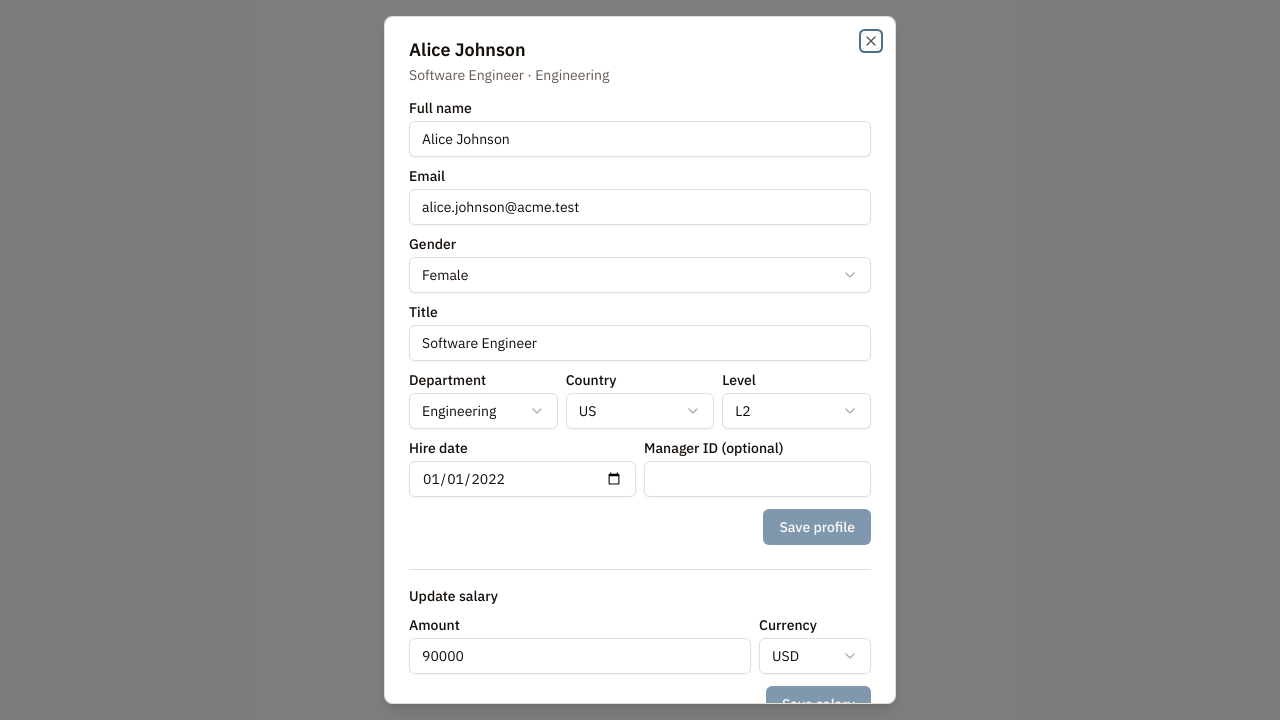
it: EmployeeDetailModal › keeps Save profile disabled until a profile field actually changes
The image size is (1280, 720).
Expected: the heading "Alice Johnson" is shown, [409,38,526,61]
Expected: the button "Save profile" is disabled, [763,509,871,545]
Type "II" into the field labelled "Title".
click(640, 343); type("II")  # box [409,325,871,361]
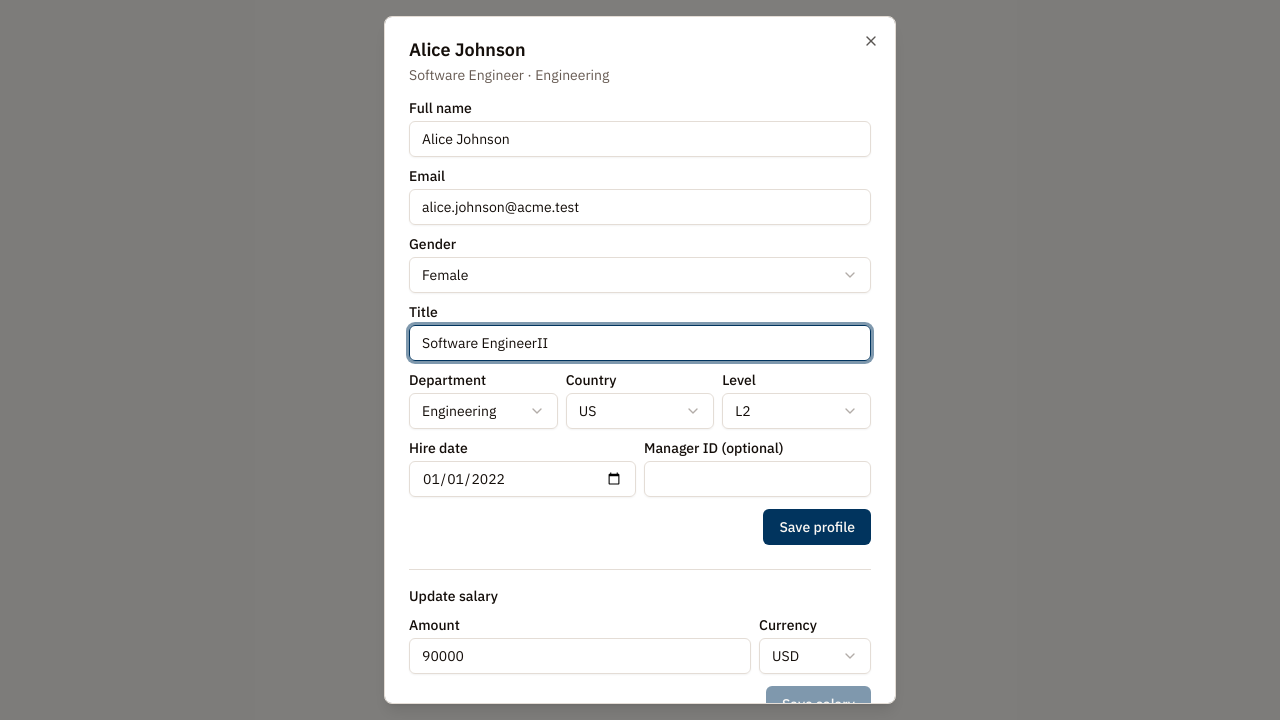
Expected: the button "Save profile" is enabled, [763,509,871,545]
